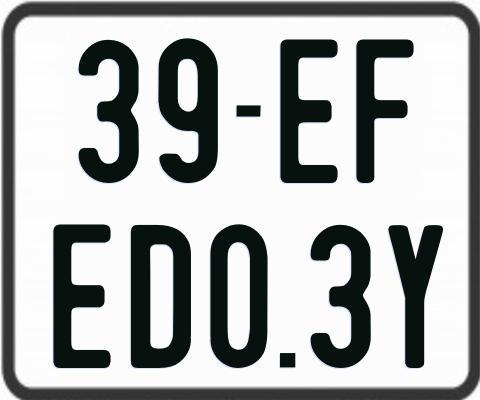0: (207, 221, 267, 368)
3: (79, 39, 139, 188), (309, 225, 370, 370)
9: (155, 35, 220, 182)
D: (129, 223, 193, 372)
E: (277, 38, 340, 185), (53, 223, 114, 371)
F: (353, 40, 413, 186)
Y: (388, 225, 445, 370)
